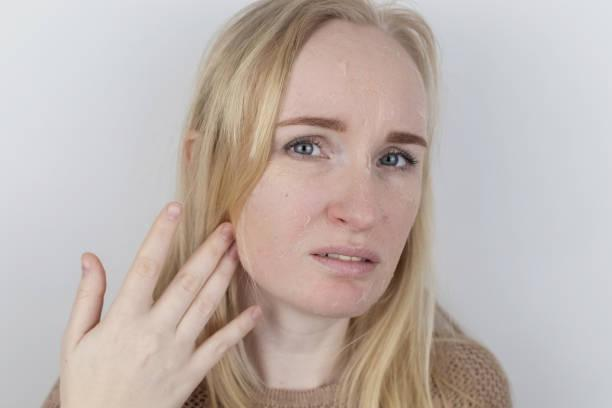Dry-Skin: (314, 41, 429, 123), (257, 168, 332, 244), (290, 269, 397, 308)
